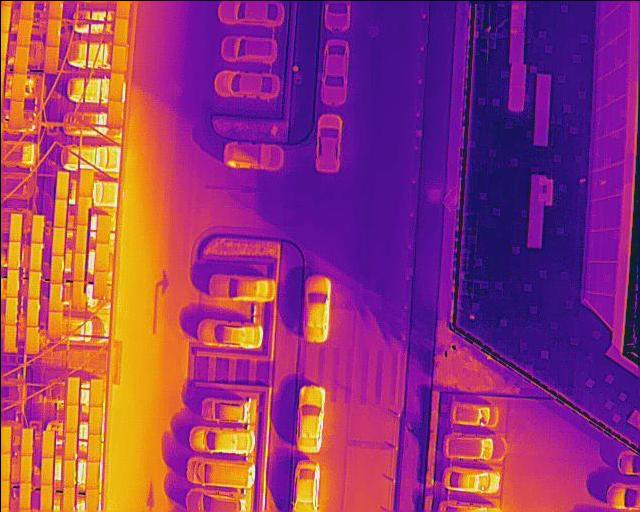Cell: (45, 17, 61, 46), (93, 270, 107, 298), (30, 241, 42, 270), (64, 430, 76, 458), (60, 487, 74, 511)
Cell-Multi: (63, 459, 75, 486)
No-Anomaly: (16, 18, 32, 46), (112, 16, 127, 45), (13, 44, 28, 73), (108, 72, 123, 100), (77, 168, 92, 196), (43, 45, 57, 74), (8, 99, 22, 128), (111, 45, 126, 72), (85, 461, 99, 489), (10, 73, 24, 100), (87, 433, 100, 462), (55, 171, 68, 200), (51, 226, 64, 255), (27, 270, 40, 298), (48, 310, 61, 338), (41, 430, 54, 458), (106, 100, 120, 126), (96, 215, 109, 243), (88, 406, 101, 433), (8, 214, 21, 241), (65, 403, 77, 432), (53, 199, 65, 228), (7, 240, 19, 268), (95, 243, 107, 270), (5, 297, 17, 324), (66, 376, 78, 403), (90, 379, 102, 406), (41, 457, 53, 484), (74, 224, 86, 251), (73, 252, 84, 281), (20, 454, 31, 483), (27, 299, 39, 325), (25, 326, 37, 352), (7, 269, 18, 297), (4, 324, 15, 352), (76, 196, 87, 224), (31, 214, 42, 242), (21, 428, 32, 454), (20, 482, 31, 508), (40, 484, 51, 510)
Unclassified: (49, 283, 62, 311), (51, 255, 63, 283)
